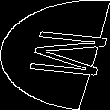M_E: (5, 28, 105, 82)
